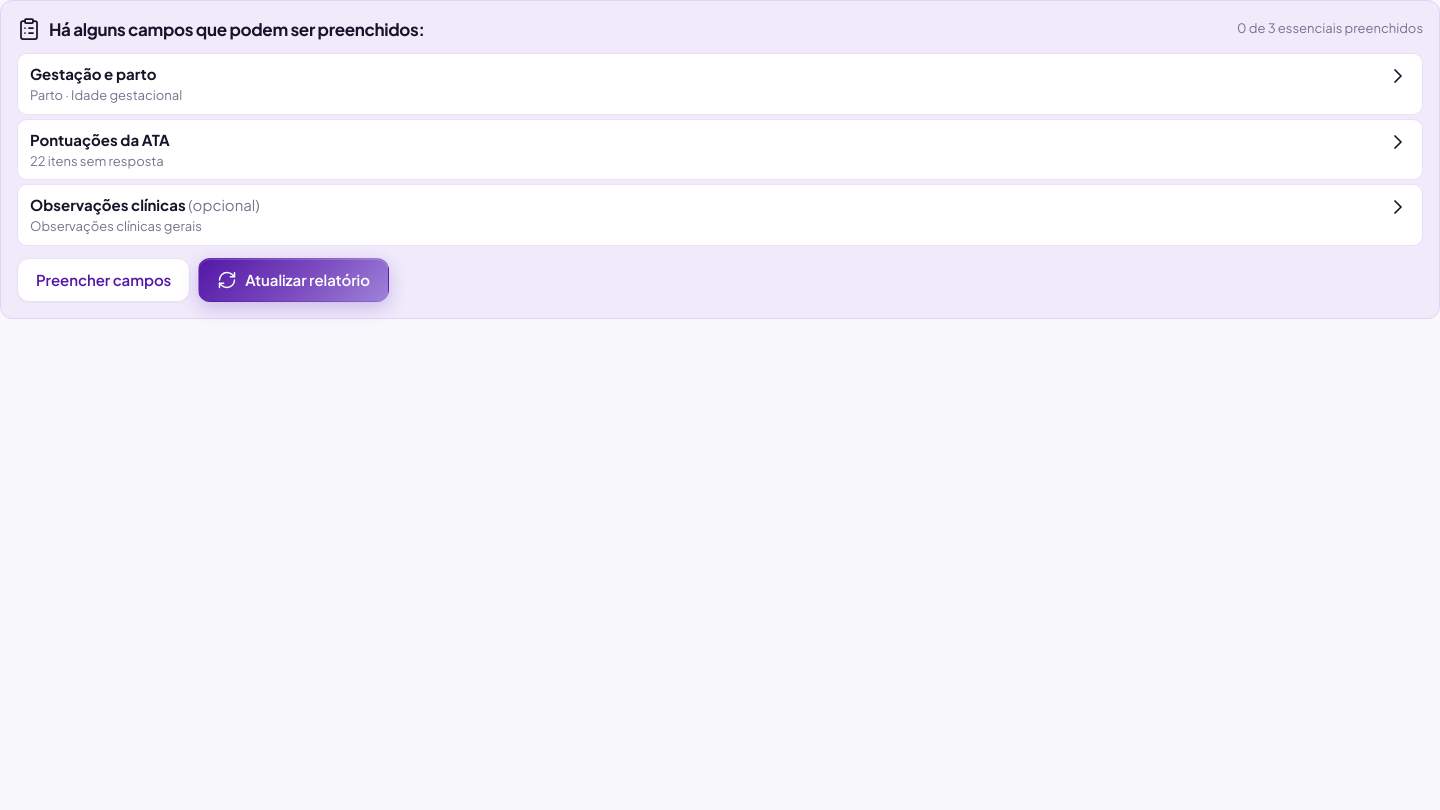
Test: CamposQueFaltam › mantém os dados após falha no autosave e permite tentar novamente
Click the button "Preencher campos" at (104, 280), box x1=17 y1=258 x2=190 y2=302
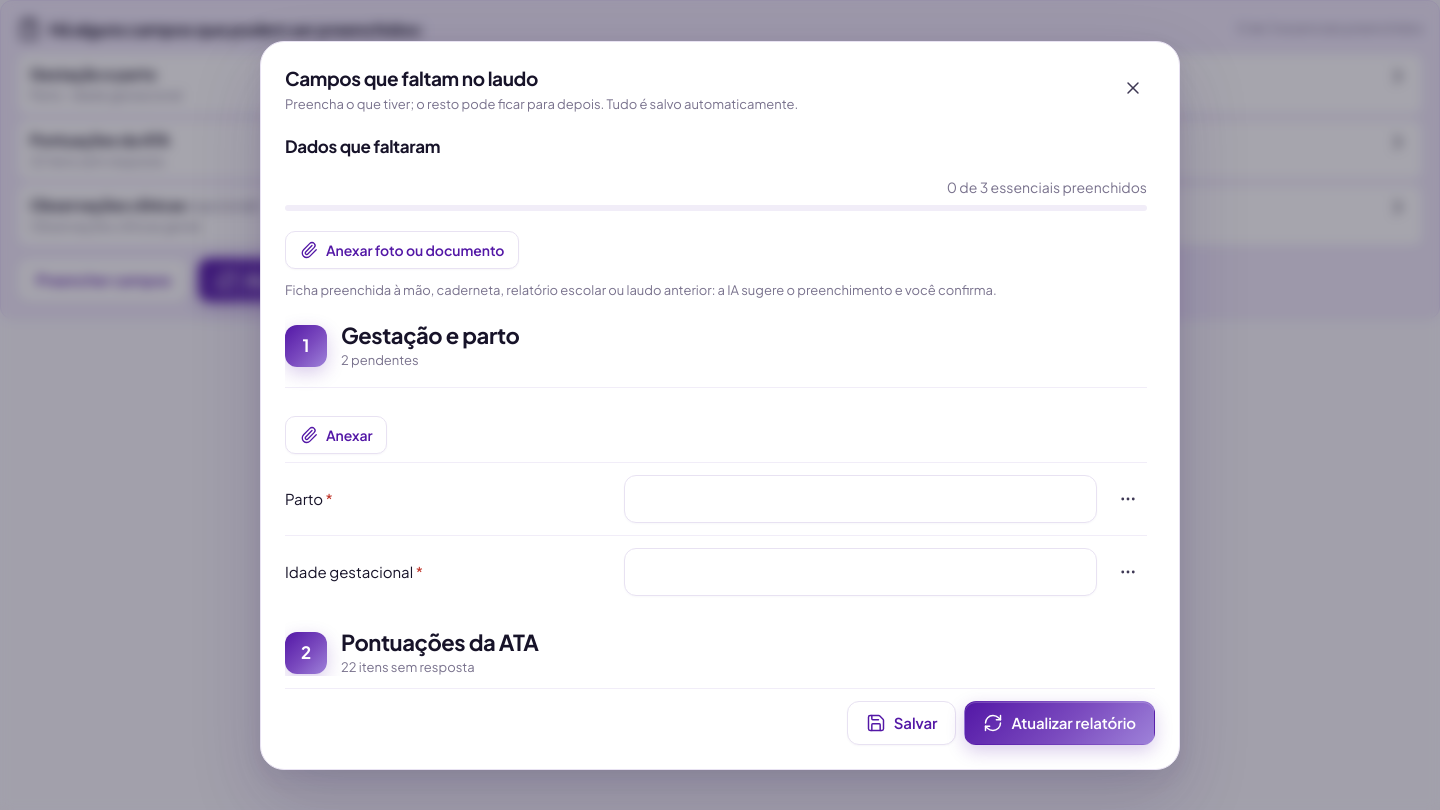
Type "Normal" into the field named "Parto" at (860, 499), box x1=624 y1=475 x2=1097 y2=523
Wait 900 ms
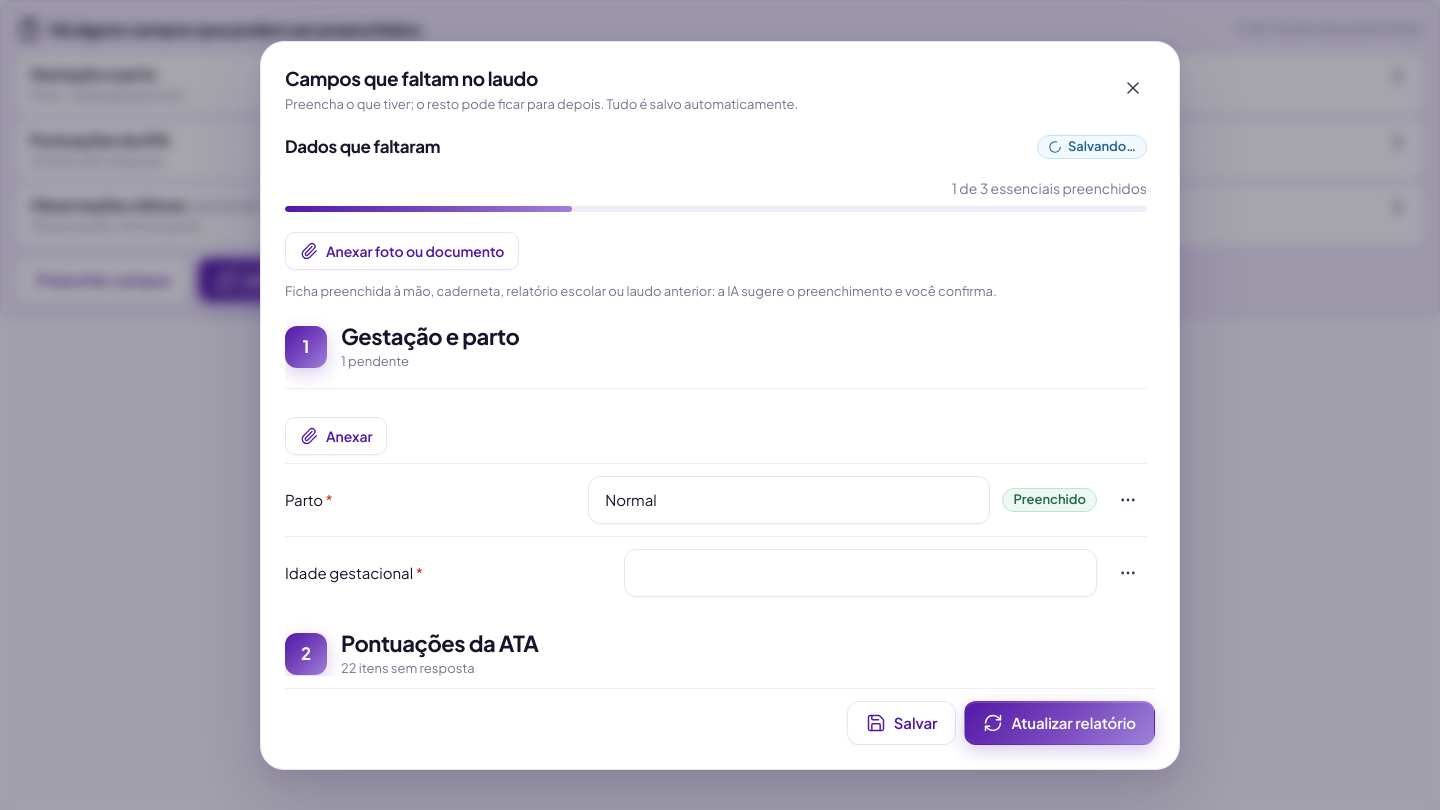
Replace the text in the field named "Parto" with "Cesáreo" at (789, 500), box x1=588 y1=476 x2=990 y2=524
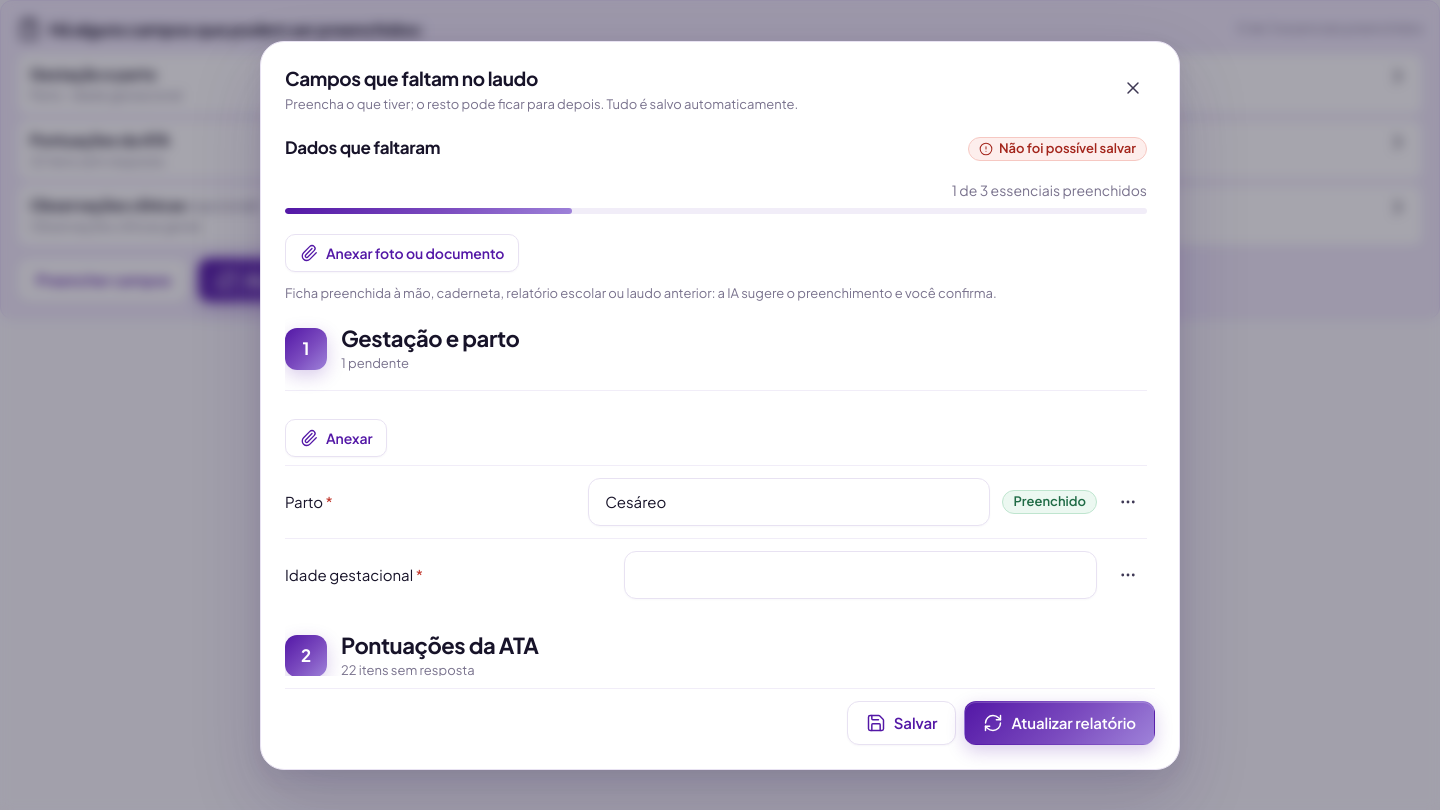
Click the button "Atualizar relatório" at (1060, 722), box x1=964 y1=700 x2=1155 y2=744
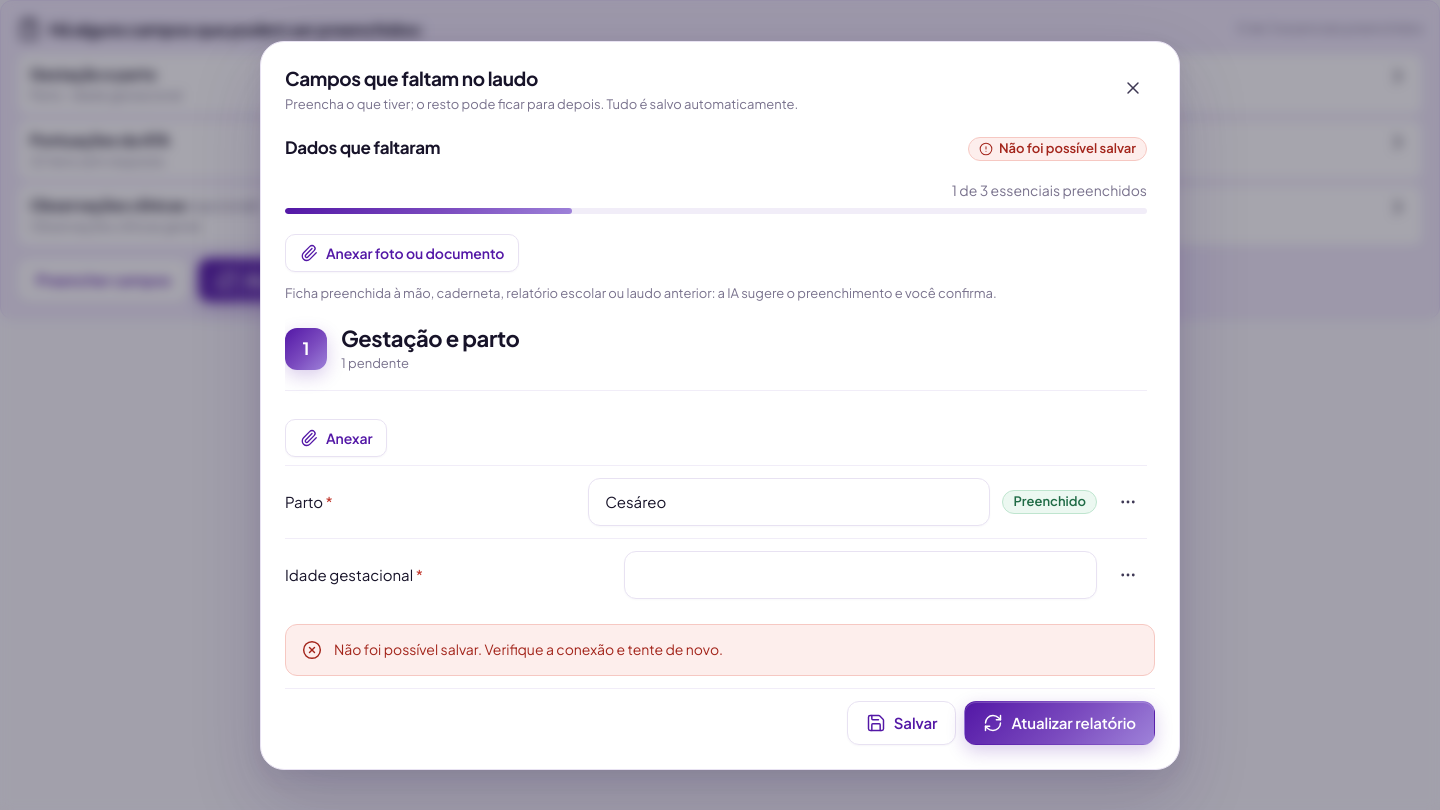
Now the dialog is shown
Now the text "Não foi possível salvar. Verifique a conexão e tente de novo." is shown, box x1=334 y1=640 x2=723 y2=658
Click the button "Atualizar relatório" at (1060, 722), box x1=964 y1=700 x2=1155 y2=744
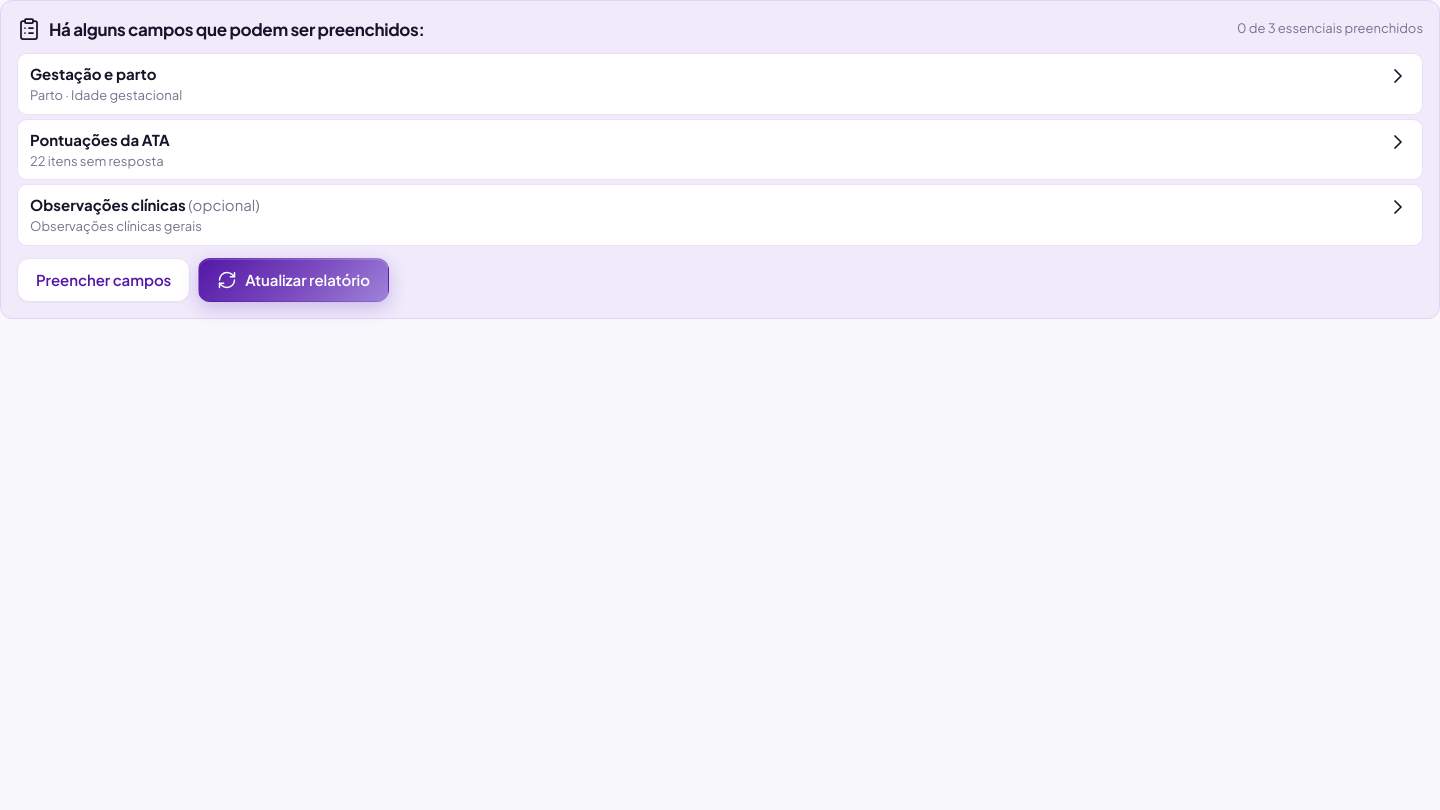
Now the dialog is gone
